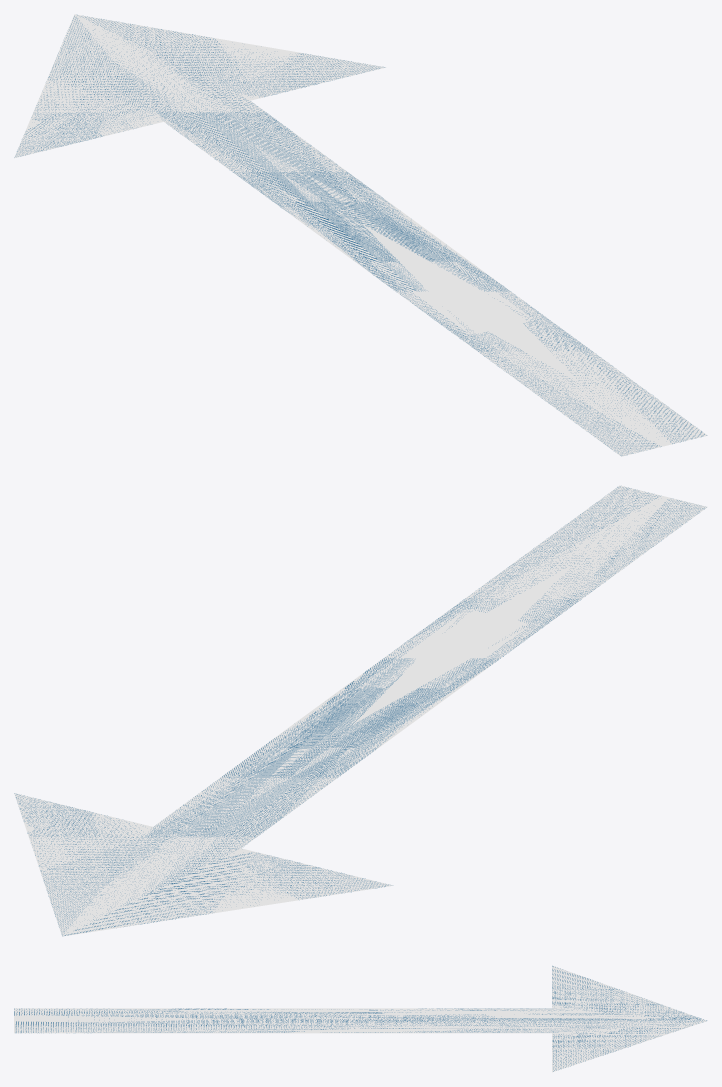
Rendered from arrow.dae.
The picture shows the model from 3 angles, top to bottom: view 1: azimuth 30°, elevation 25°; view 2: azimuth 150°, elevation 25°; view 3: azimuth 270°, elevation 25°; orthographic projection. The views are drawn at different scales.
Visible parts, largest first — view 1: SketchUp; view 2: SketchUp; view 3: SketchUp.
Boxes of the visible parts, x1,y1,x2,y2 form: SketchUp: (14, 14, 707, 456); SketchUp: (14, 485, 707, 936); SketchUp: (14, 965, 707, 1072).
Bounding box in the file's own units: 168 × 462 × 0.
